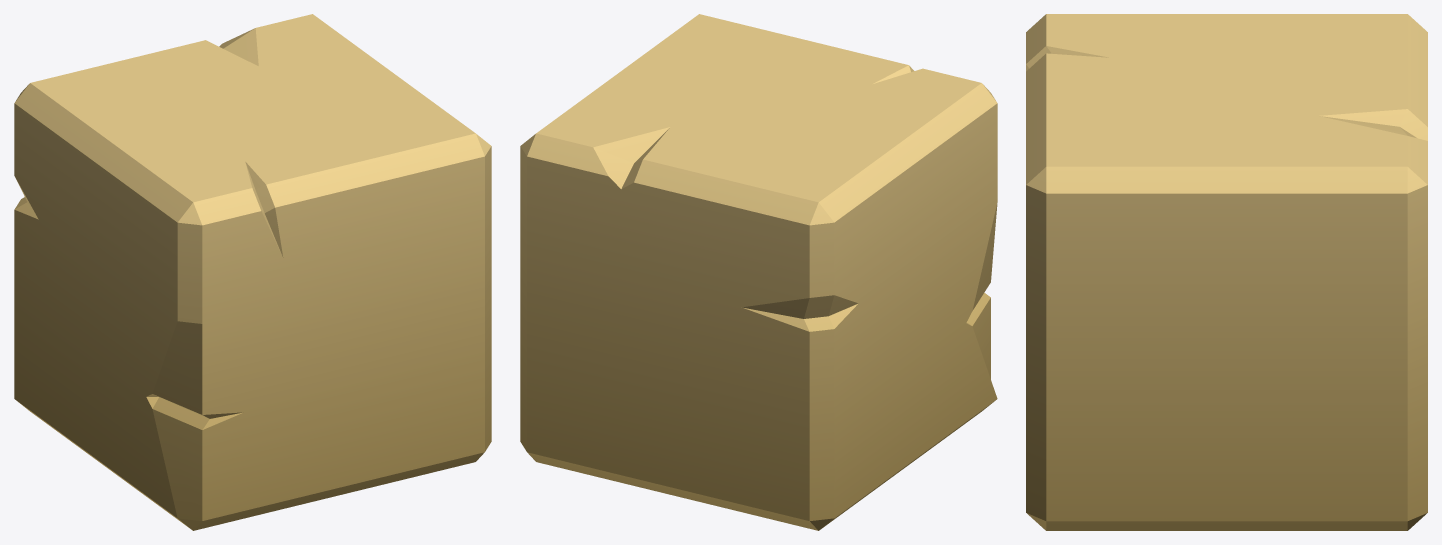
The model's file is Tile_Cracked_White.fbx.
The picture shows the model from 3 angles, left to right: view 1: azimuth 30°, elevation 25°; view 2: azimuth 150°, elevation 25°; view 3: azimuth 270°, elevation 25°; orthographic projection. The views are drawn at different scales.
Visible parts, largest first — view 1: Tile Putih Coak; view 2: Tile Putih Coak; view 3: Tile Putih Coak.
Part boxes in pixels (<box>): Tile Putih Coak: <box>14,14,491,530</box>; Tile Putih Coak: <box>520,14,997,530</box>; Tile Putih Coak: <box>1026,14,1427,530</box>.
Size of the model in its own units: 1 by 1 by 1.
Materials: 1 (1 with a texture image).
